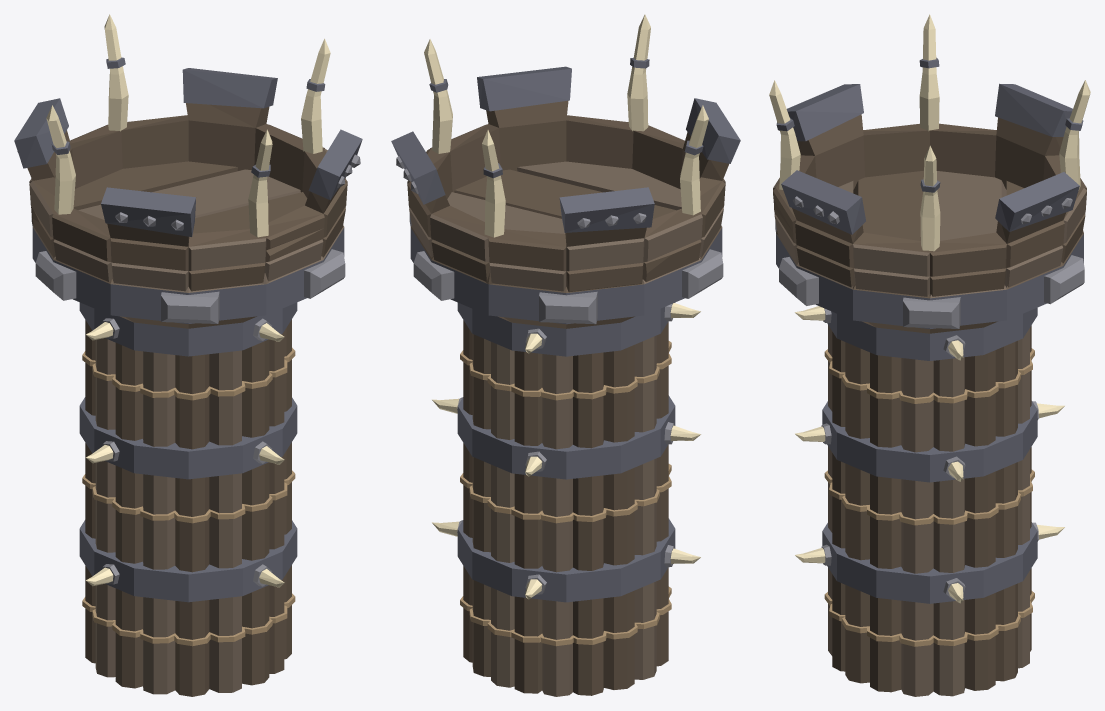
Rendered from TOWER_3_FULL.fbx.
3 renders of one model, left to right at view 1: azimuth 30°, elevation 25°; view 2: azimuth 150°, elevation 25°; view 3: azimuth 270°, elevation 25°, orthographic.
Visible parts, largest first — view 1: TOWER_3_UP_01, TOWER_3_OSNOVA_01, TOWER_3_OSNOVA_02, TOWER_3_OSNOVA_03; view 2: TOWER_3_UP_01, TOWER_3_OSNOVA_01, TOWER_3_OSNOVA_02, TOWER_3_OSNOVA_03; view 3: TOWER_3_UP_01, TOWER_3_OSNOVA_01, TOWER_3_OSNOVA_02, TOWER_3_OSNOVA_03.
Part boxes in pixels (x1,y1,x2,y2): TOWER_3_UP_01: (14,14,362,328); TOWER_3_OSNOVA_01: (79,520,297,696); TOWER_3_OSNOVA_02: (79,397,297,572); TOWER_3_OSNOVA_03: (79,302,297,449); TOWER_3_UP_01: (391,14,740,328); TOWER_3_OSNOVA_01: (432,518,700,696); TOWER_3_OSNOVA_02: (432,395,700,572); TOWER_3_OSNOVA_03: (457,302,700,449); TOWER_3_UP_01: (769,14,1090,333); TOWER_3_OSNOVA_01: (795,522,1064,696); TOWER_3_OSNOVA_02: (795,401,1064,573); TOWER_3_OSNOVA_03: (795,306,1037,452).
Size of the model in its own units: 650 by 1238 by 628.
